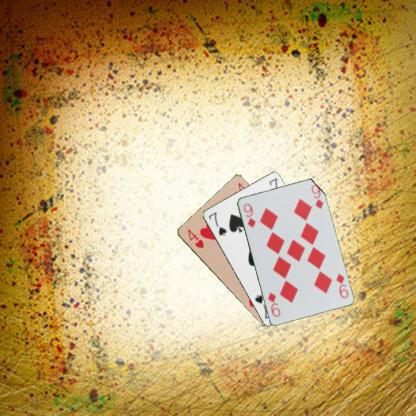4h: (185, 226, 204, 249)
7s: (206, 209, 228, 237)
9d: (240, 200, 257, 229), (334, 271, 350, 299)
